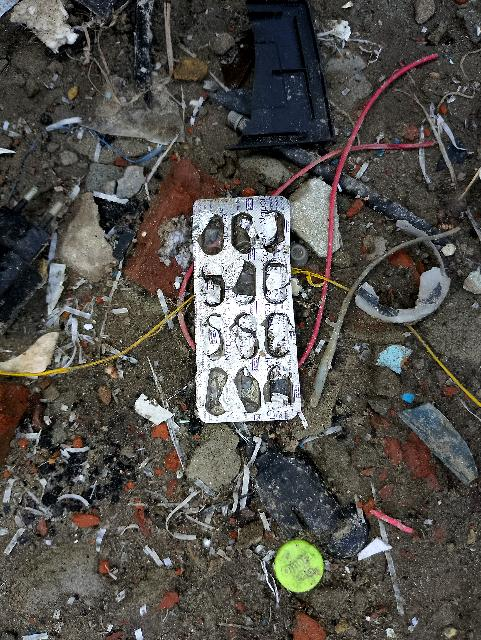medicine: (187, 191, 309, 424)
